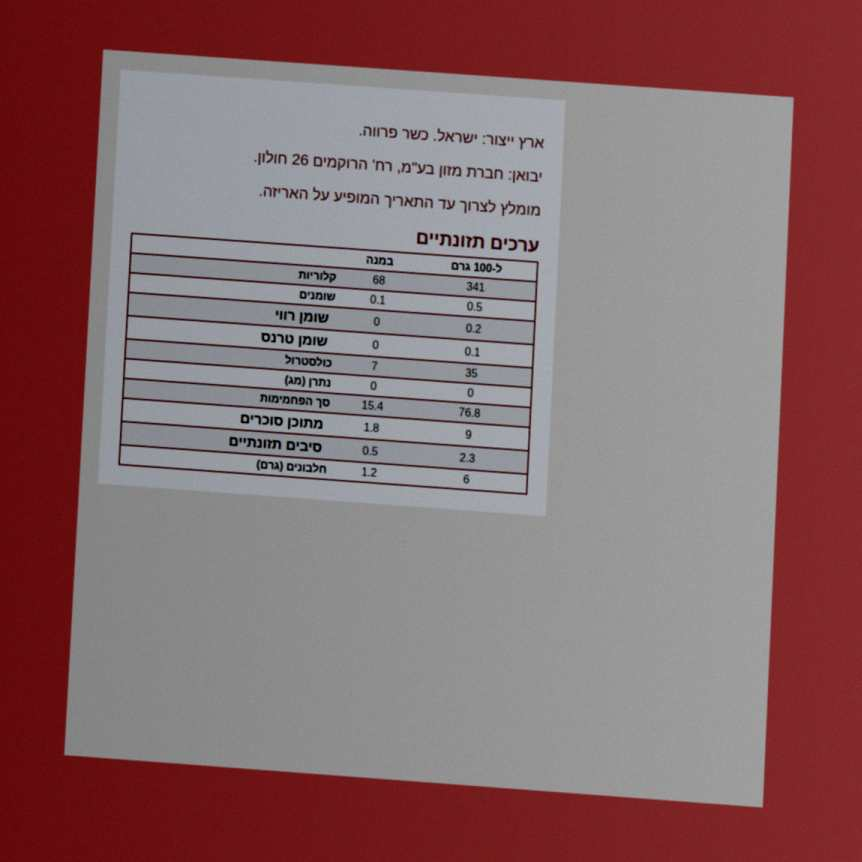carbs: (457, 404, 482, 421)
energy: (464, 279, 487, 295)
fat: (465, 299, 484, 315)
protein: (461, 472, 471, 487)
